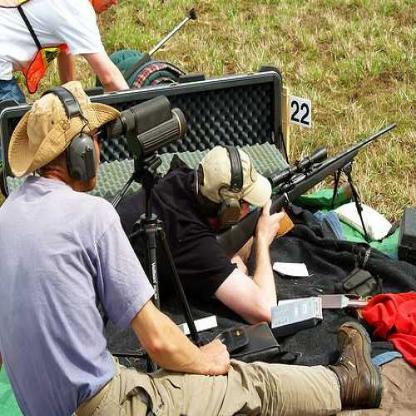rifle: (211, 99, 406, 278)
